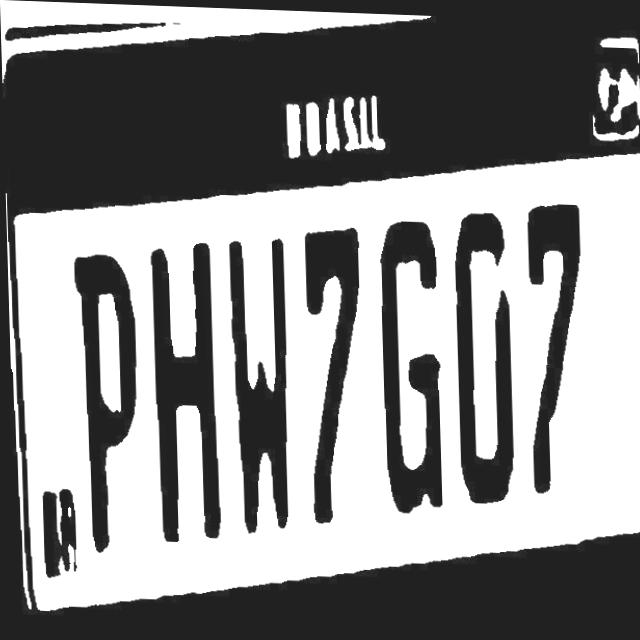0: (440, 203, 515, 504)
7: (293, 215, 372, 524), (518, 194, 587, 496)
g: (371, 207, 448, 515)
h: (141, 232, 228, 545)
p: (60, 247, 141, 556)
w: (221, 222, 299, 537)
